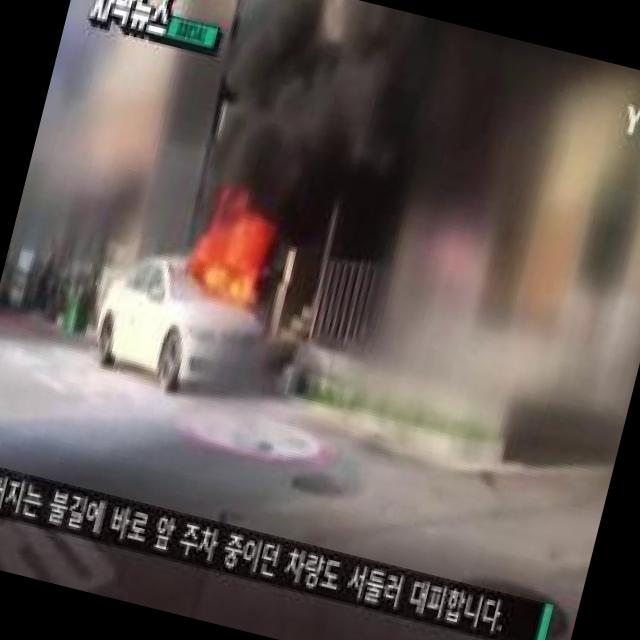Fire: (188, 194, 278, 310)
Smoke: (188, 0, 419, 232)
